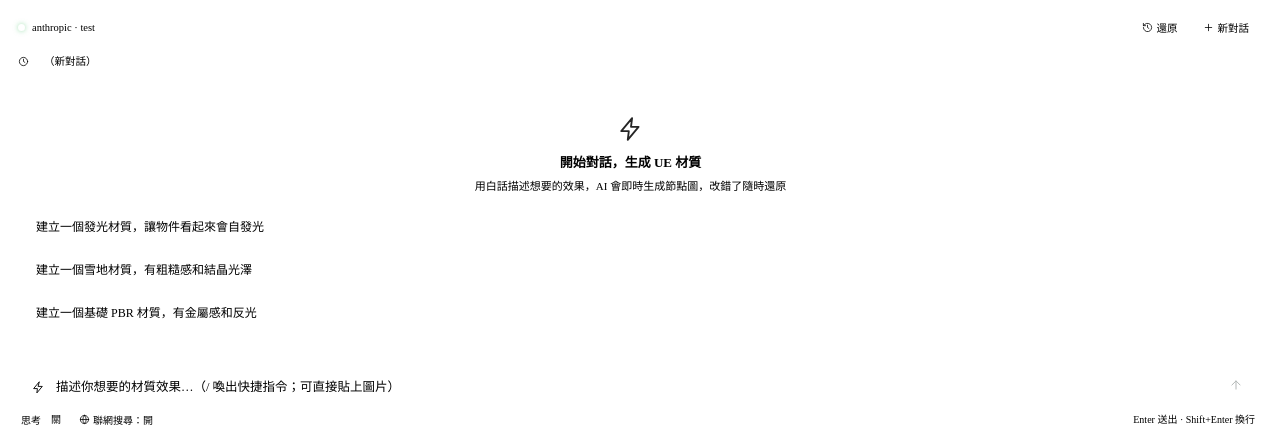
Test: AgentChat M4 › undo button click on success shows 「已還原上一步」notice
Click the button "還原": point(1160, 28) [1132,16,1186,39]
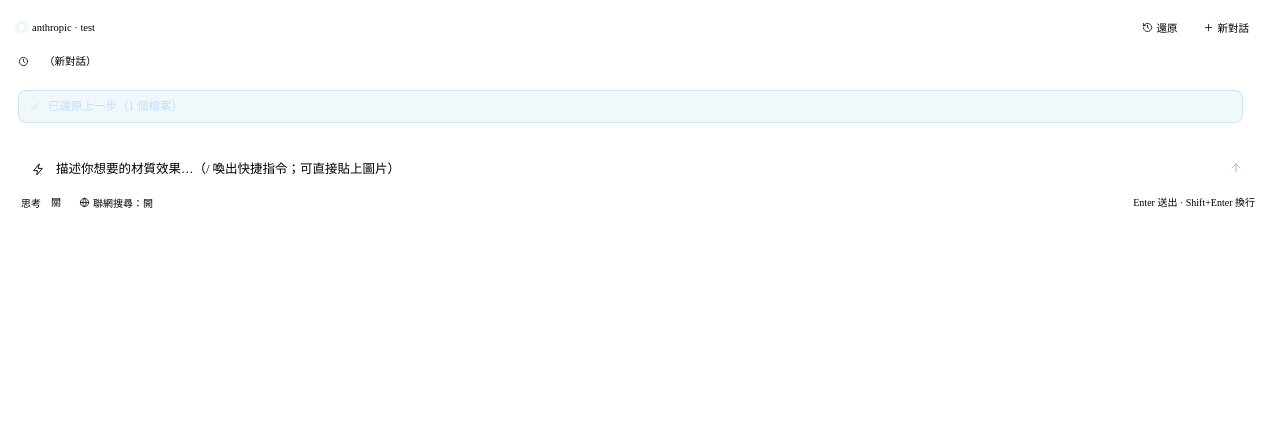
Result: the text "已還原上一步" is shown at [48,100,183,112]
